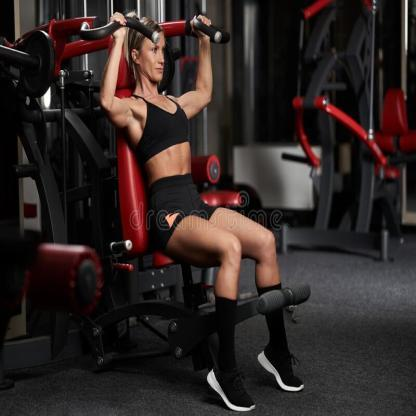shoulder press machine: (55, 13, 312, 411)
